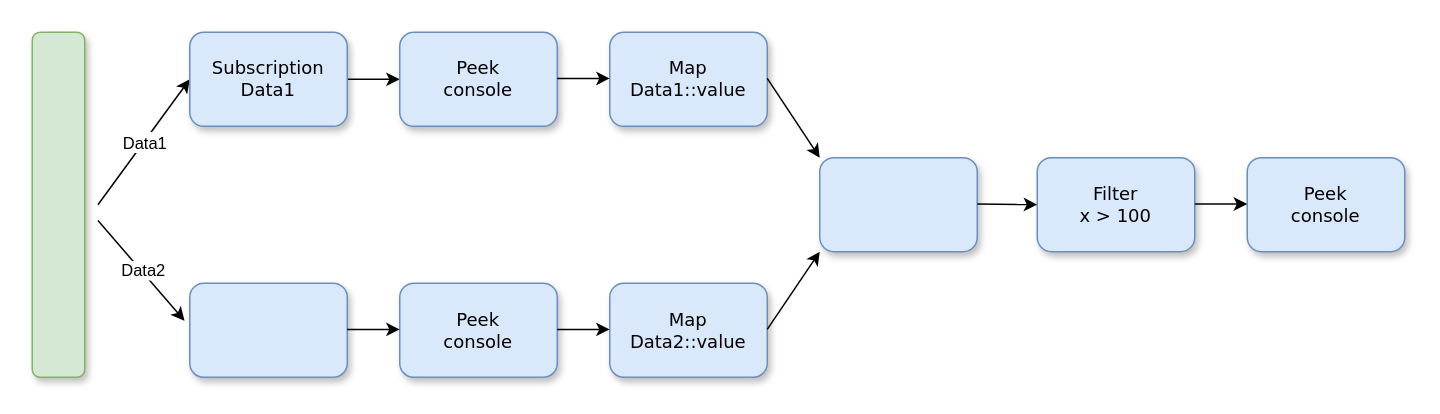
The diagram is 1440 pixels wide and 414 high, and some of its shapes have lost their labels. Each missing label, with the centre of its shape:
BinaryMap Double::sum: the point at 899,206
Dispatcher: the point at 59,206
Subscription Data2: the point at 269,332
